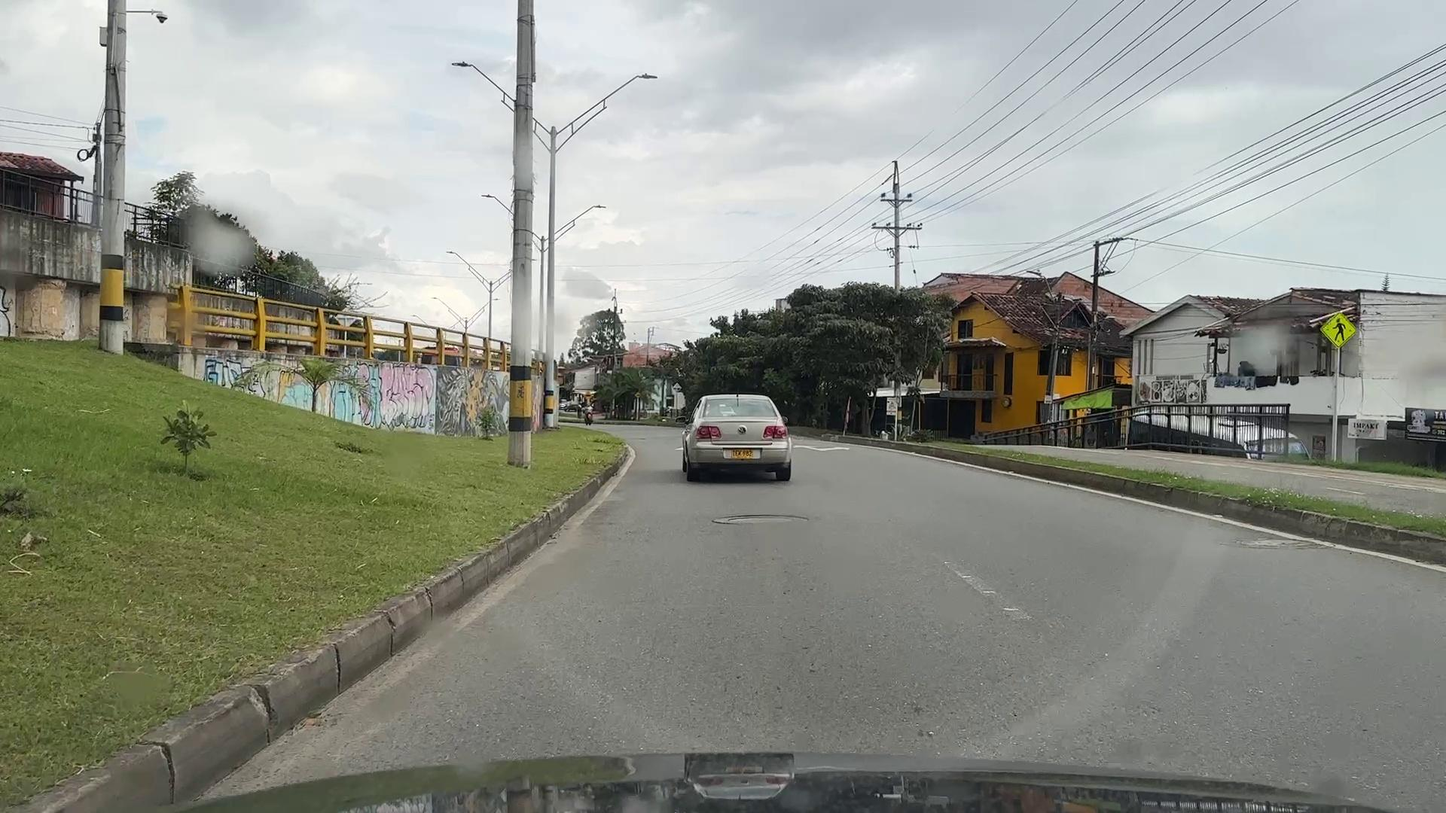bache: (1234, 537, 1319, 548)
registro: (712, 514, 809, 525)
